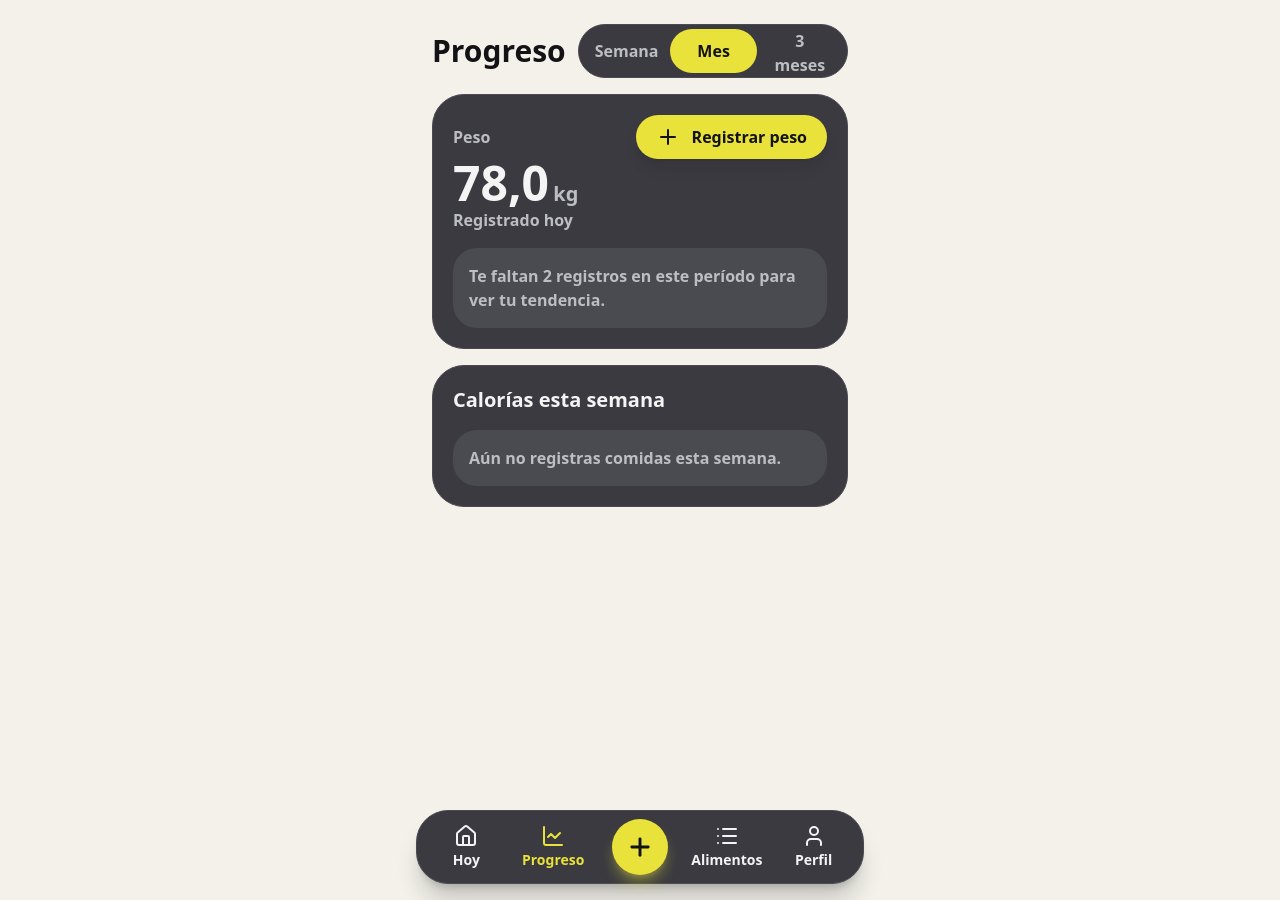
Test: ProgressPage › Registrar peso › warns that a second weight today replaces the first
Check: the text "Registrado hoy" is shown, box [453,209,573,231]
Step 1. Click the button "Registrar peso" → (731, 137), box [636,115,827,159]
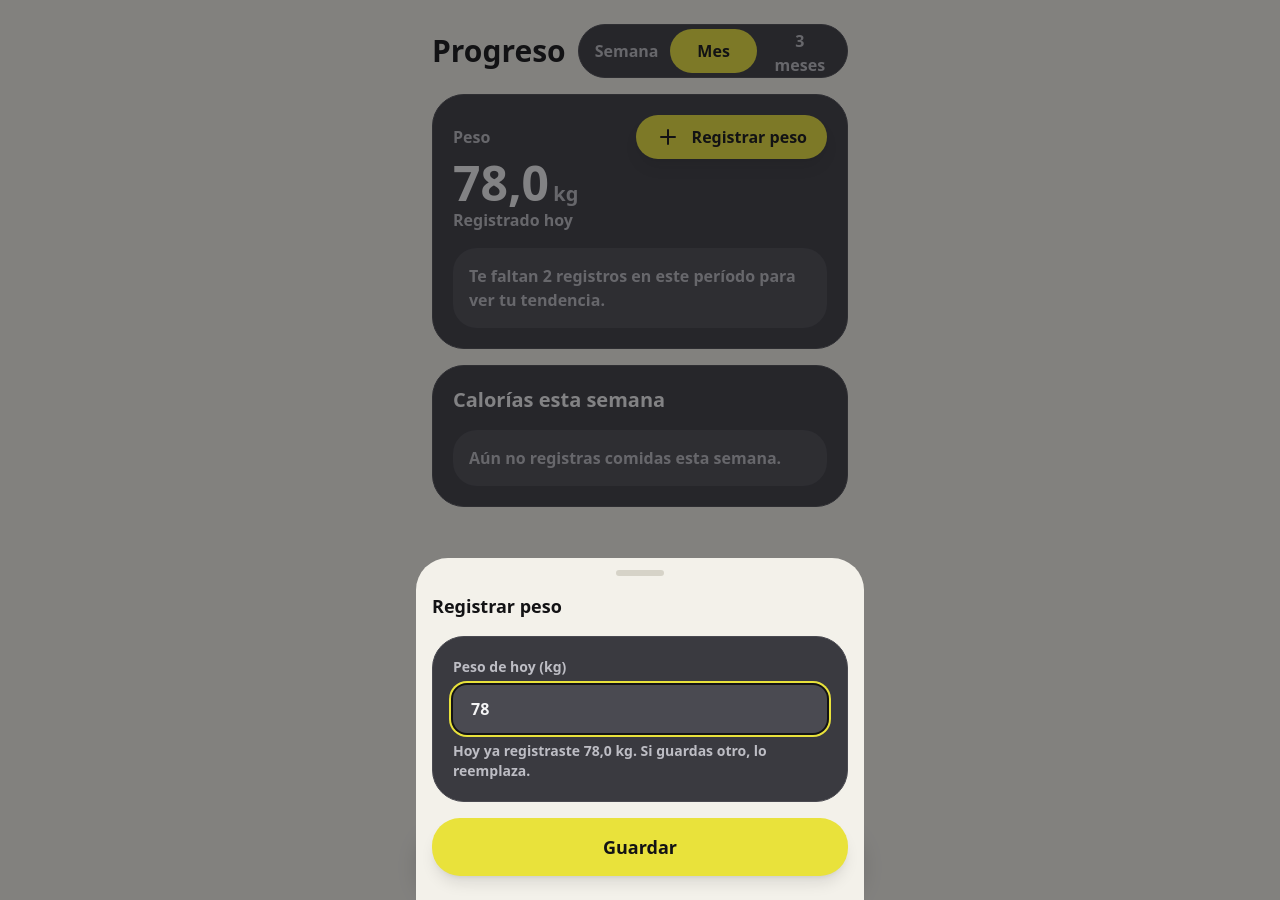
Check: the field labelled "Peso de hoy (kg)" holds "78", box [453,685,827,733]
Check: the text "Hoy ya registraste 78,0 kg. Si guardas otro, lo reemplaza." is shown, box [453,741,767,780]
